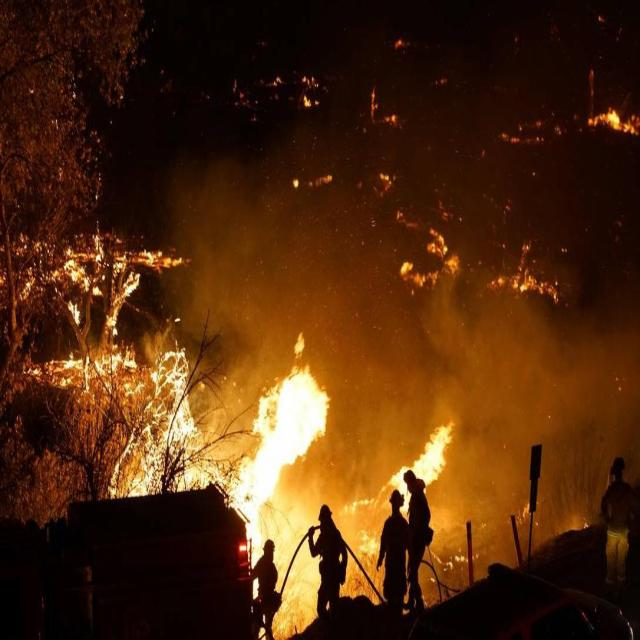fire: (100, 326, 344, 574), (382, 409, 451, 489)
